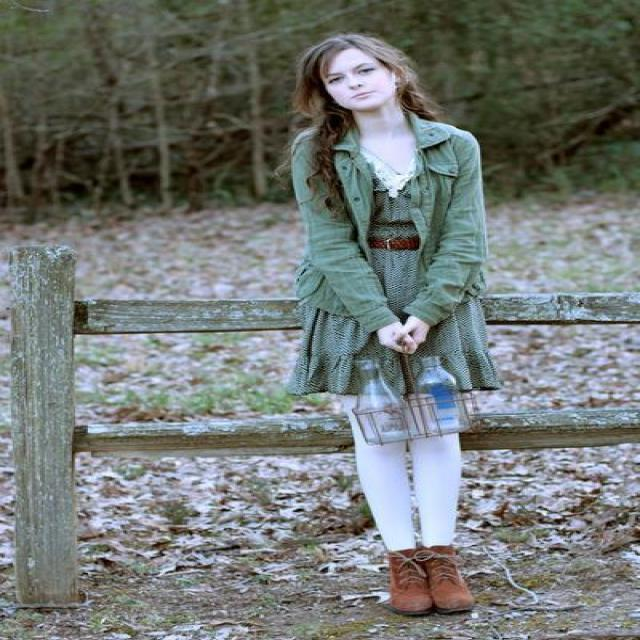bag: (332, 378, 473, 463)
jacket: (276, 118, 526, 406)
shoe: (379, 545, 477, 624)
